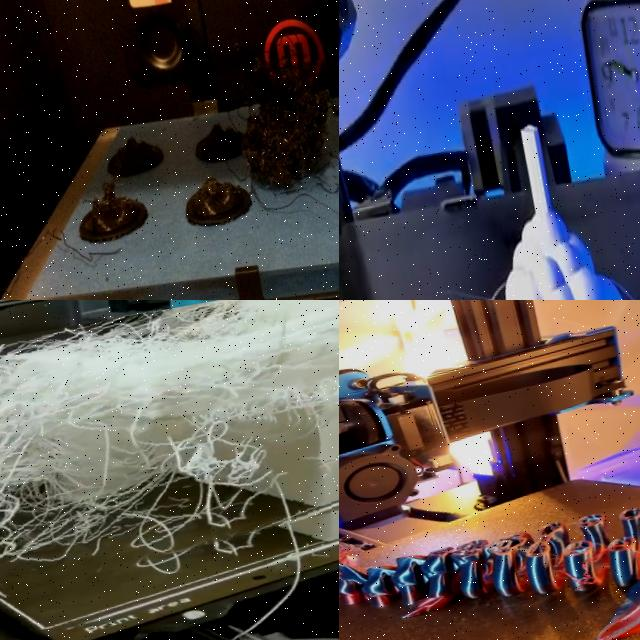spaghetti: (0, 300, 339, 625), (242, 69, 332, 194)
